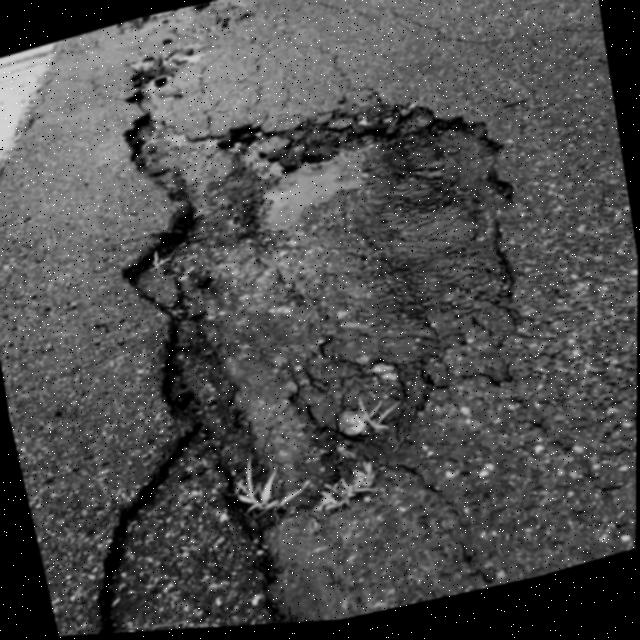Pothole: (115, 59, 552, 544)
